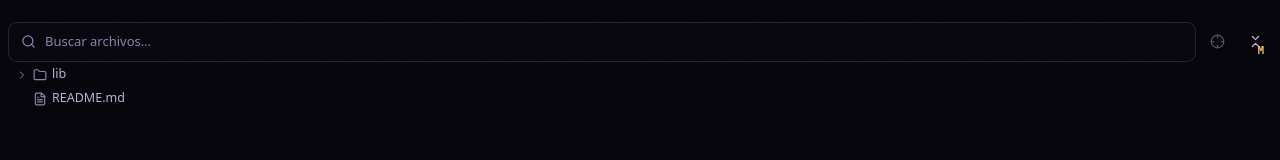
one search finds files anywhere
Type "app" into the search field at (614, 42), box [45,23,1183,60]
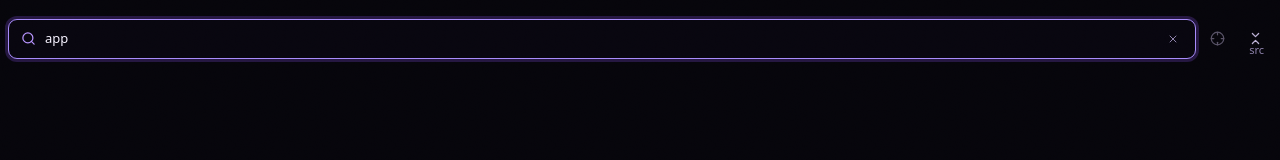
Now the list with test id "file-tree-results" shows "app.ts", box [8,38,1272,62]
Now the list with test id "file-tree-results" shows "src", box [8,38,1272,62]
